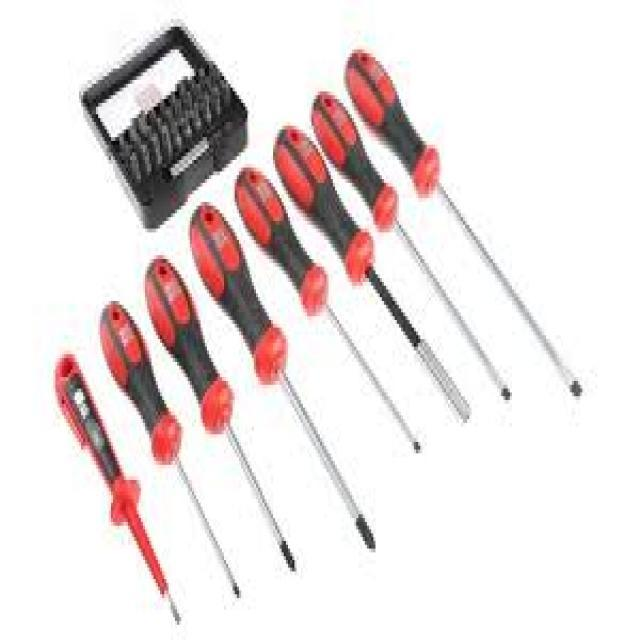screwdriver: (342, 44, 584, 398), (188, 196, 378, 554), (305, 88, 514, 404), (268, 120, 472, 425), (234, 164, 424, 458), (140, 248, 298, 572), (98, 303, 241, 604), (50, 348, 185, 630)
